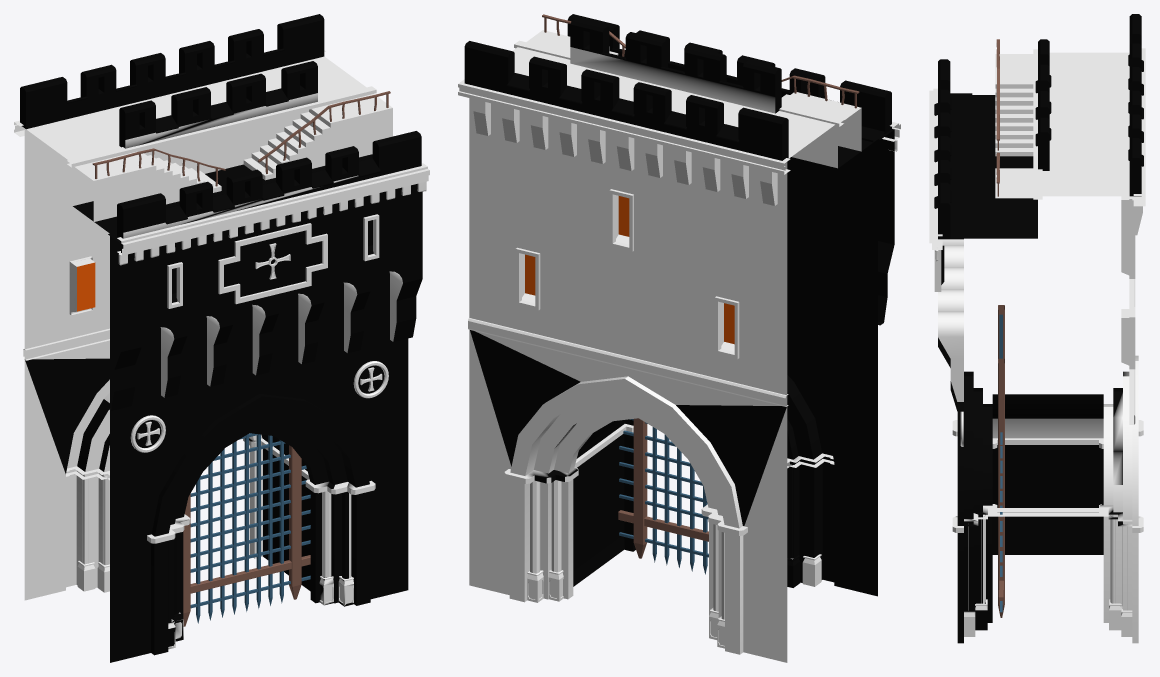
The model's file is citadel_gate.fbx.
The picture shows the model from 3 angles, left to right: view 1: azimuth 30°, elevation 25°; view 2: azimuth 150°, elevation 25°; view 3: azimuth 270°, elevation 25°; orthographic projection. The views are drawn at different scales.
Visible parts, largest first — view 1: citadel_gate, citadel_gate.001; view 2: citadel_gate, citadel_gate.001; view 3: citadel_gate, citadel_gate.001.
Boxes of the visible parts, x1,y1,x2,y2 form: citadel_gate: [14, 14, 429, 662]; citadel_gate.001: [183, 433, 310, 626]; citadel_gate: [458, 14, 900, 662]; citadel_gate.001: [618, 418, 708, 574]; citadel_gate: [929, 14, 1145, 643]; citadel_gate.001: [998, 305, 1004, 617].
Bounding box in the file's own units: 1016 × 2626 × 1647.
